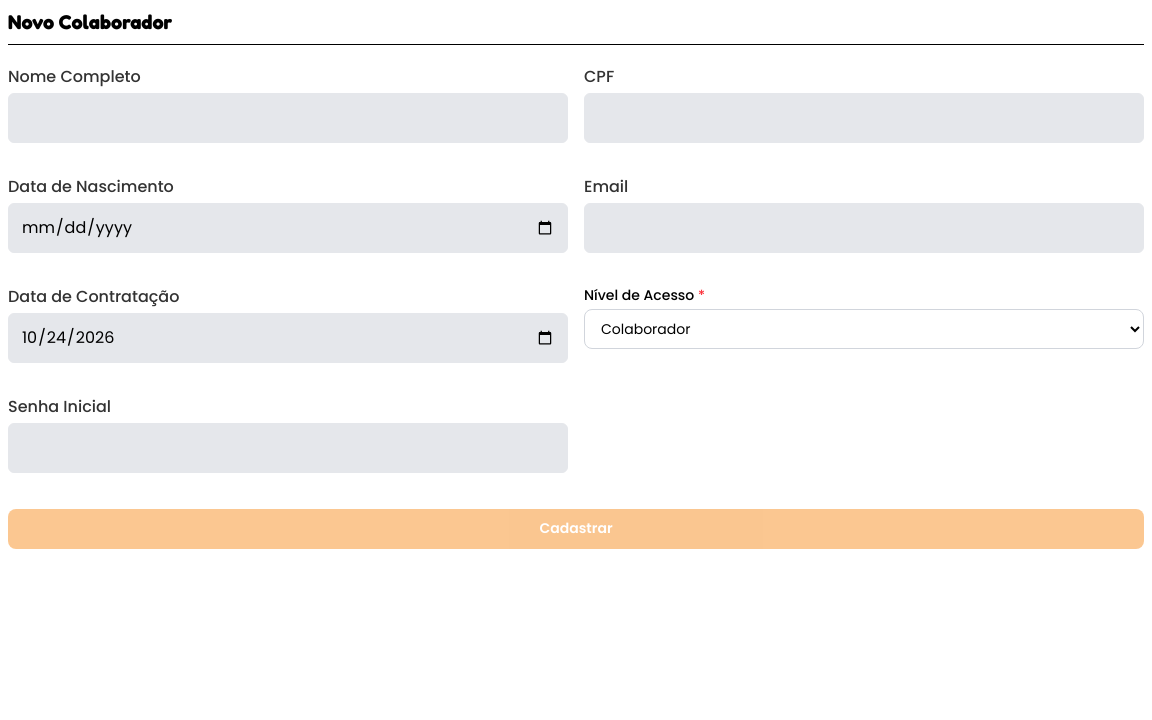
CreateCoord (novo colaborador) › envia os dados limpos (CPF só com dígitos) e fecha o formulário
Type "Ana Maria Souza" into the field labelled "Nome Completo" at (288, 118), box left=8, top=93, right=568, bottom=143
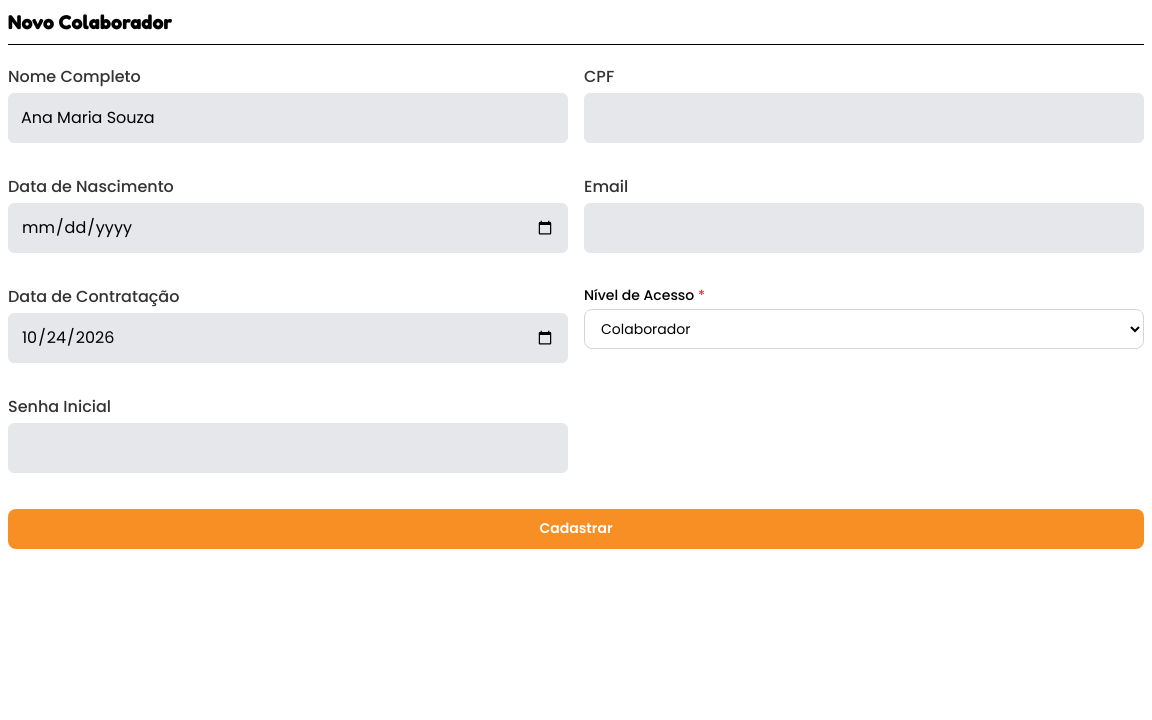
Type "123.456.789-01" into the field labelled "CPF" at (864, 118), box left=584, top=93, right=1144, bottom=143
Type "1990-01-31" into the date field labelled "Data de Nascimento" at (288, 228), box left=8, top=203, right=568, bottom=253
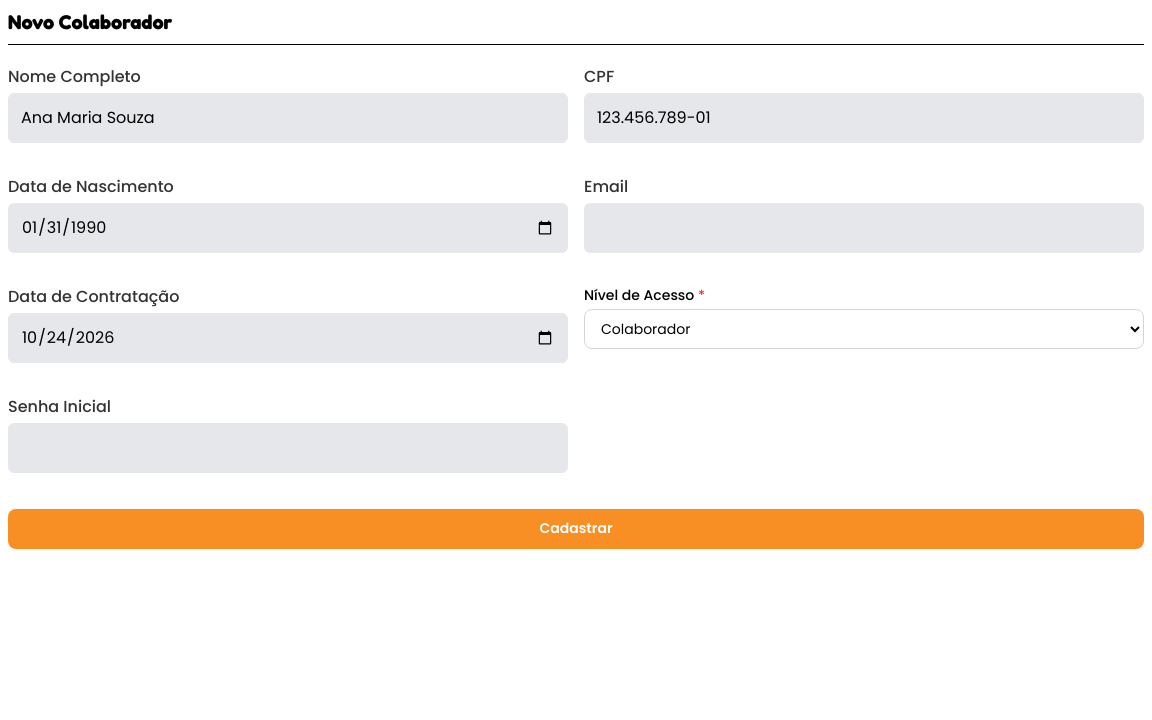
Type "ana@raizdobem.org" into the field labelled "Email" at (864, 228), box left=584, top=203, right=1144, bottom=253
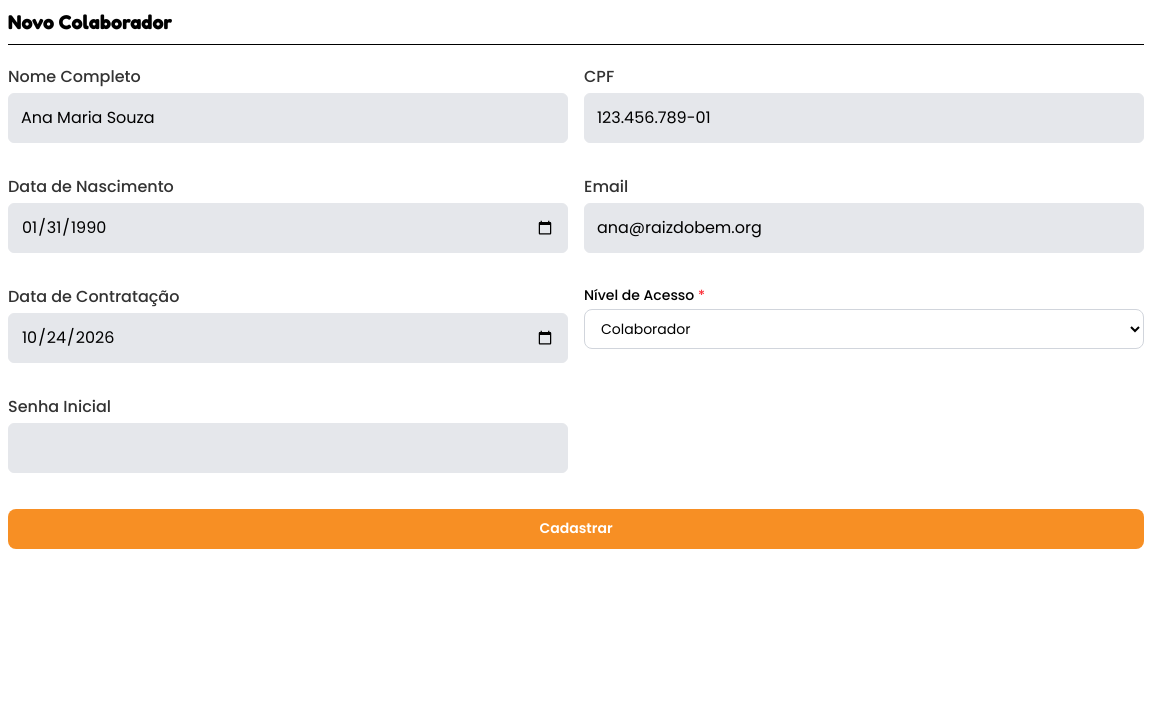
Type "Senha@1234" into the password field labelled "Senha Inicial" at (288, 448), box left=8, top=423, right=568, bottom=473
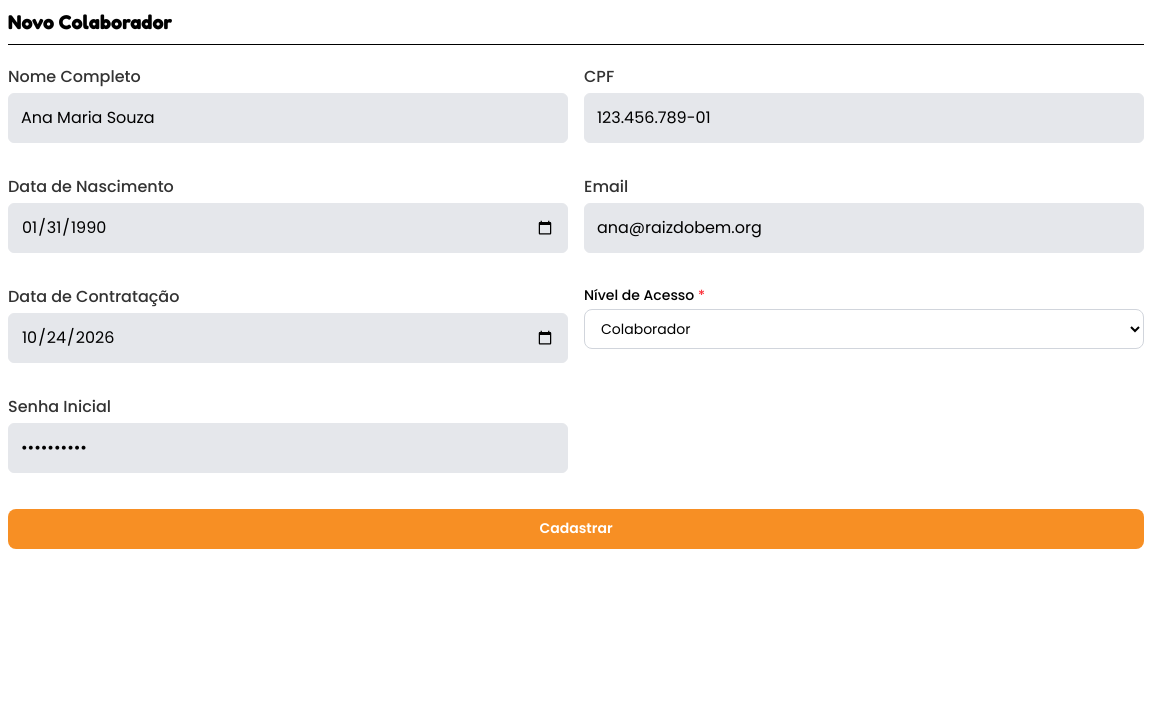
Select "Administrador" in the dropdown showing "Colaborador" at (864, 329), box left=584, top=309, right=1144, bottom=349
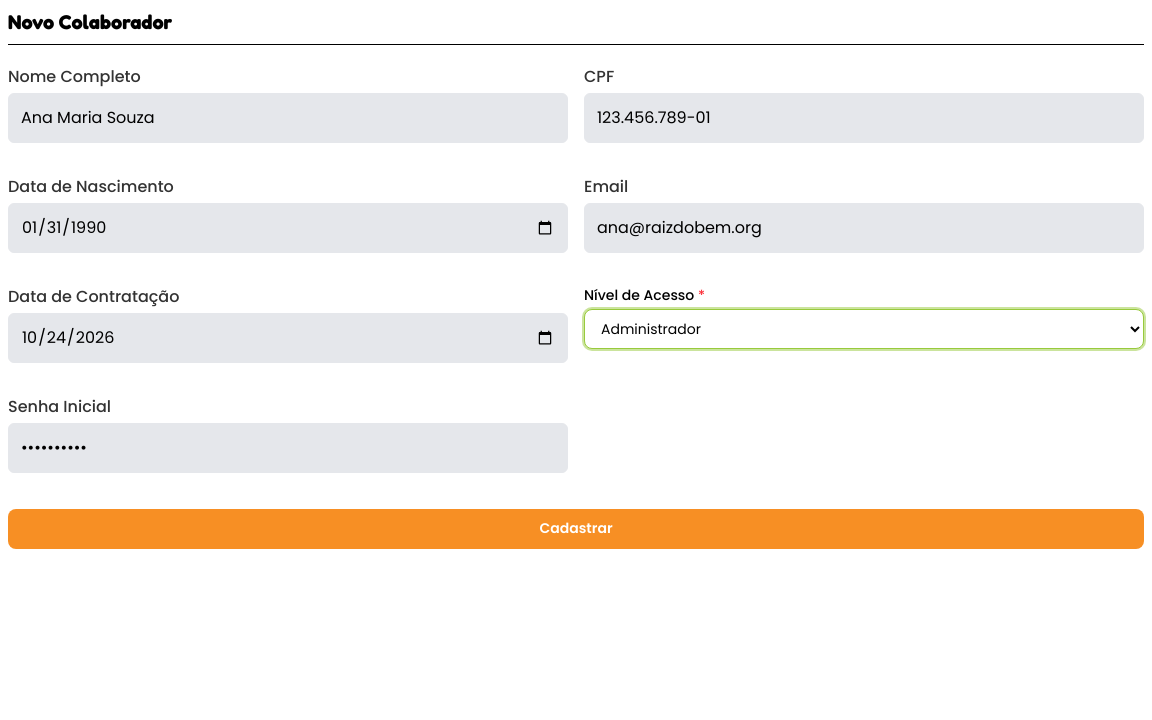
Click the button "Cadastrar" at (576, 529), box left=8, top=509, right=1144, bottom=549
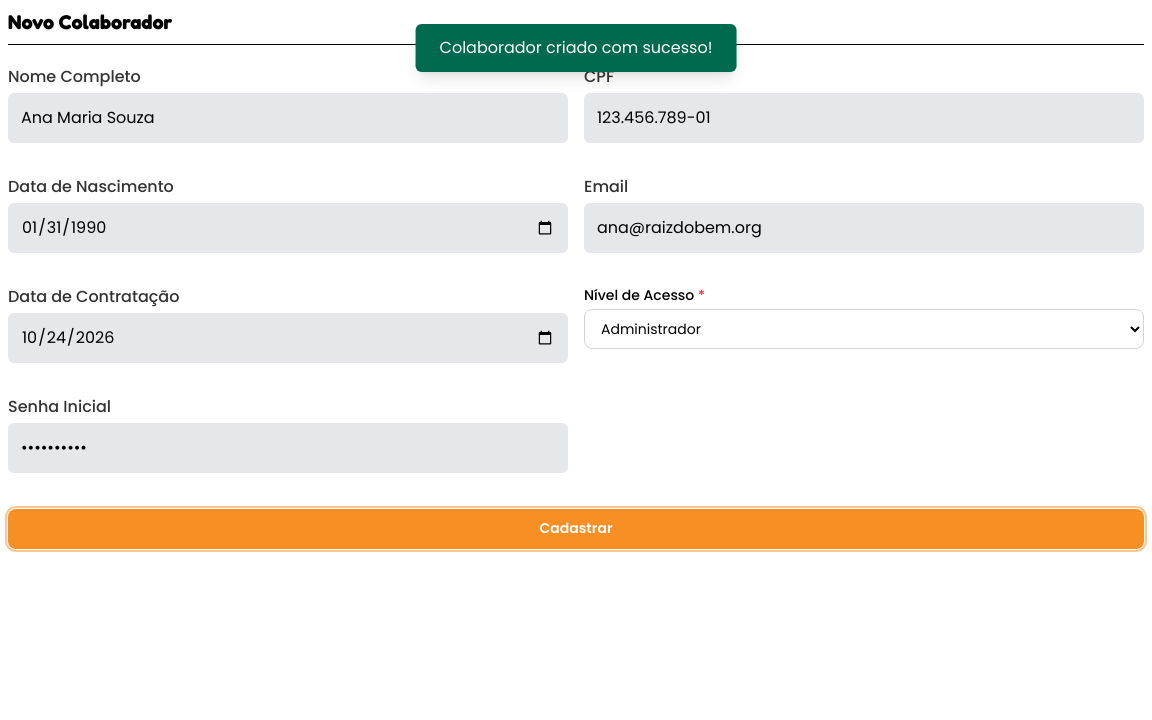
Now the text "Colaborador criado com sucesso!" is shown, box left=416, top=24, right=736, bottom=72
